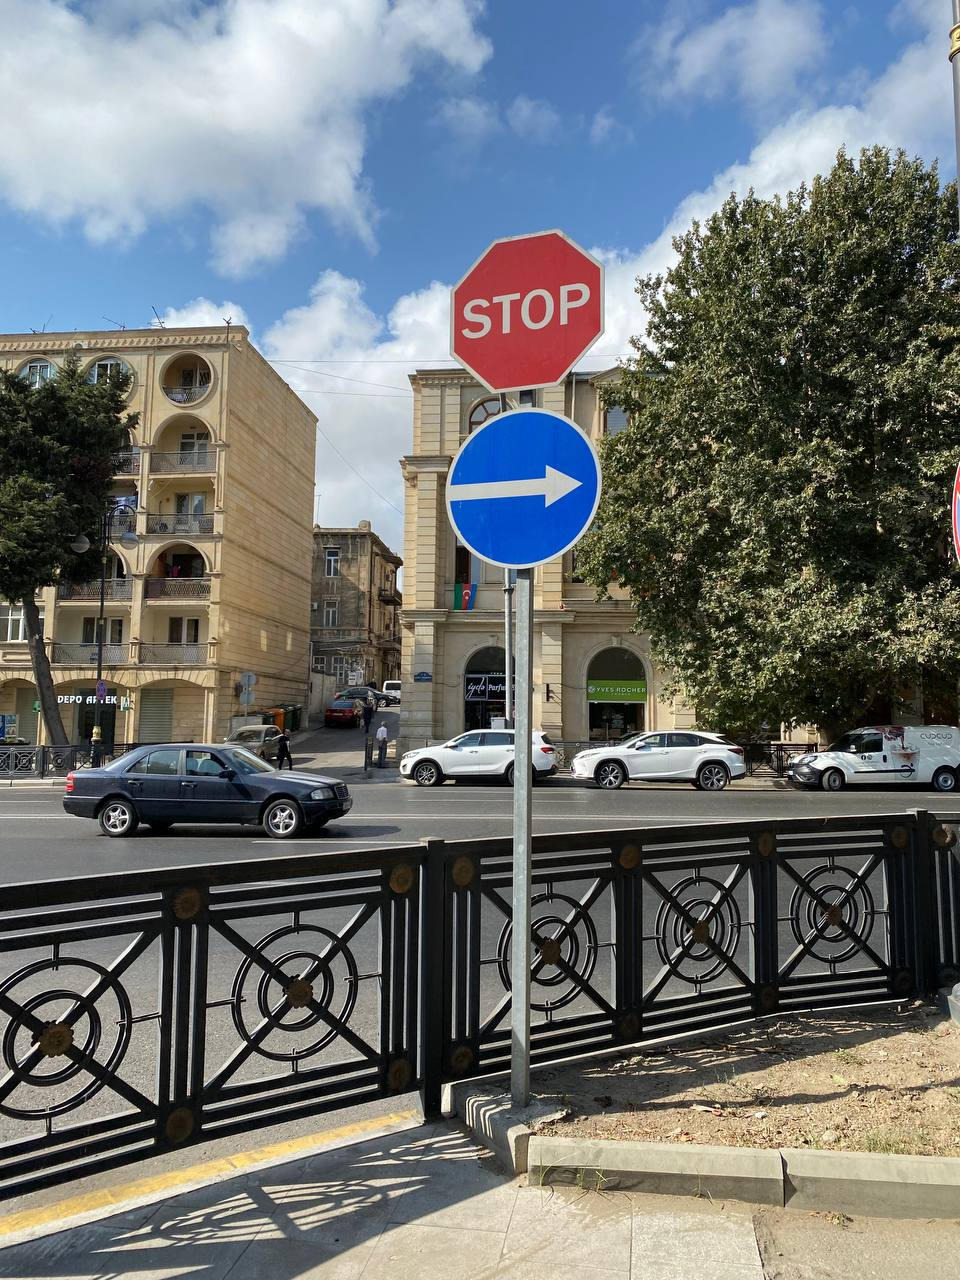STOP: (450, 229, 605, 393)
Turn Right: (446, 408, 602, 569)
